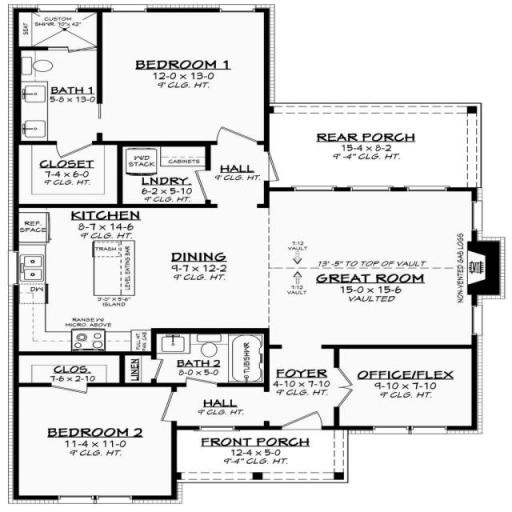bathroom: (17, 16, 98, 145), (160, 338, 258, 384)
bedroom: (109, 10, 255, 140), (26, 389, 169, 494)
closet: (25, 146, 119, 204), (23, 355, 138, 387)
hall: (272, 199, 512, 342)
kitchen: (32, 206, 253, 328)
laundary: (128, 148, 209, 196)
porch: (276, 103, 482, 184), (180, 433, 351, 477)
